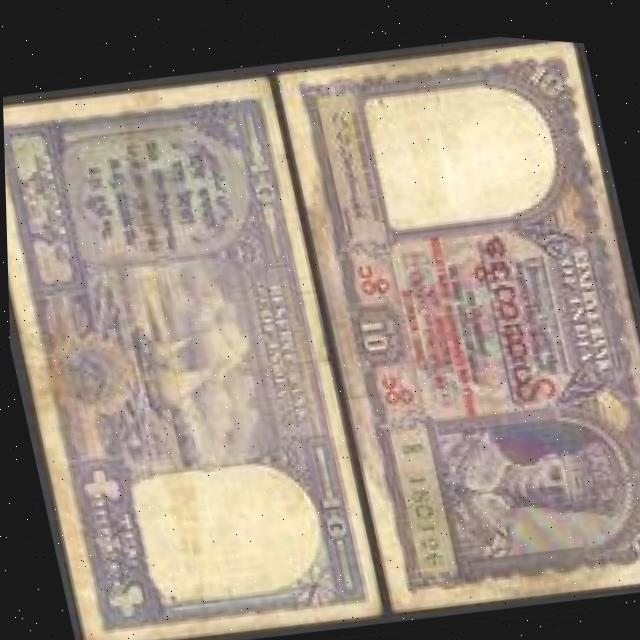banknote: (1, 50, 386, 640), (275, 16, 640, 617)
